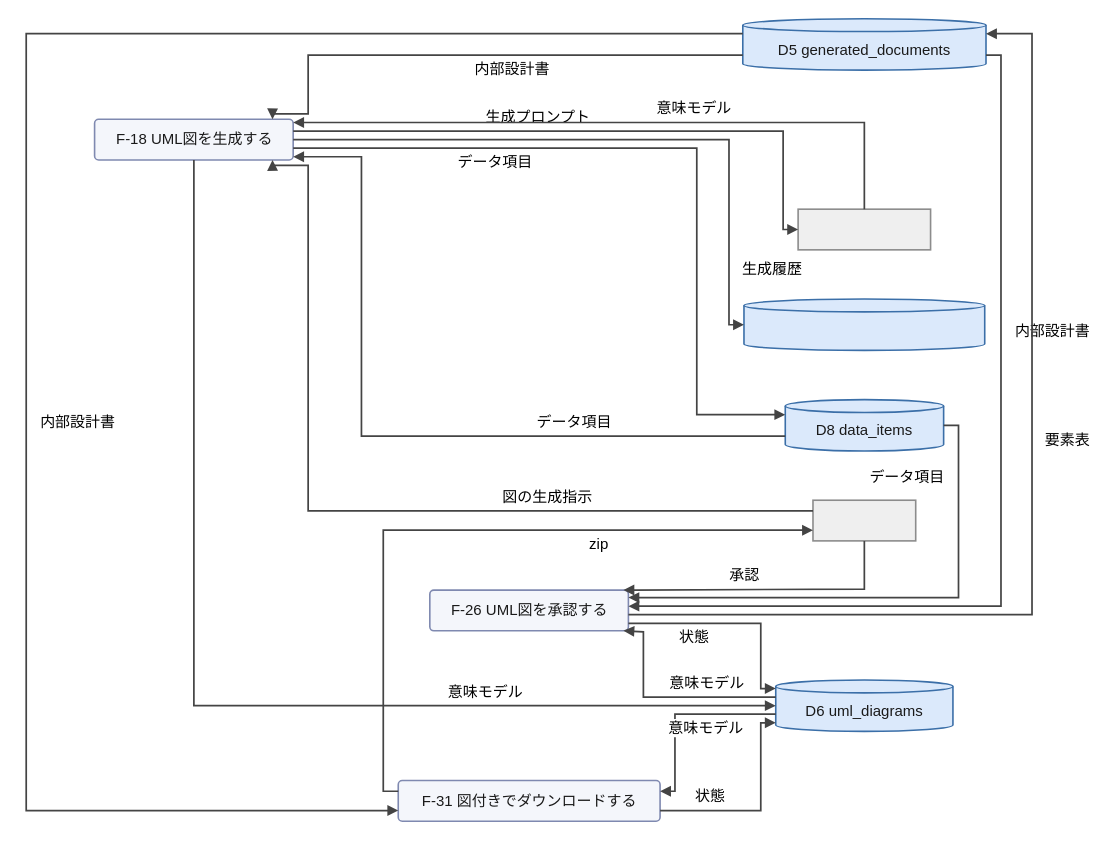
The diagram is 1109 pixels wide and 841 high, and some of its shapes have lost their labels. Each missing label, with the box of its shape:
D7 uml_generation_runs: (743, 298, 985, 351)
Gemini(LLM): (797, 208, 931, 250)
利用者: (812, 499, 916, 541)
